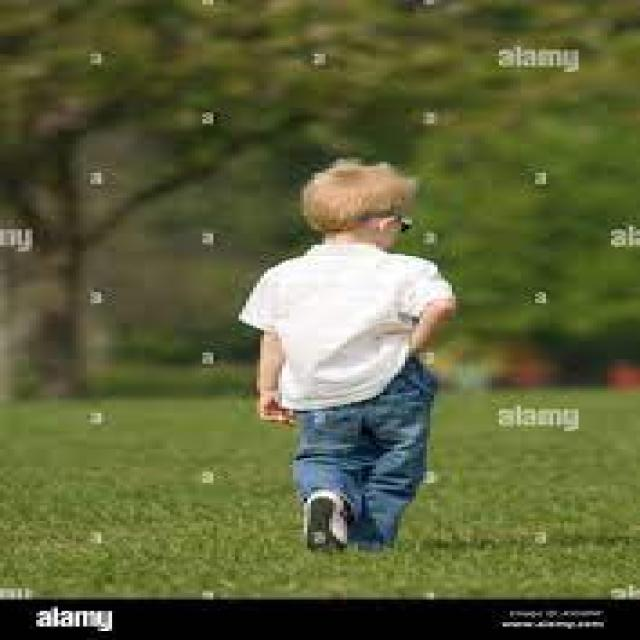Person: (245, 158, 450, 551)
